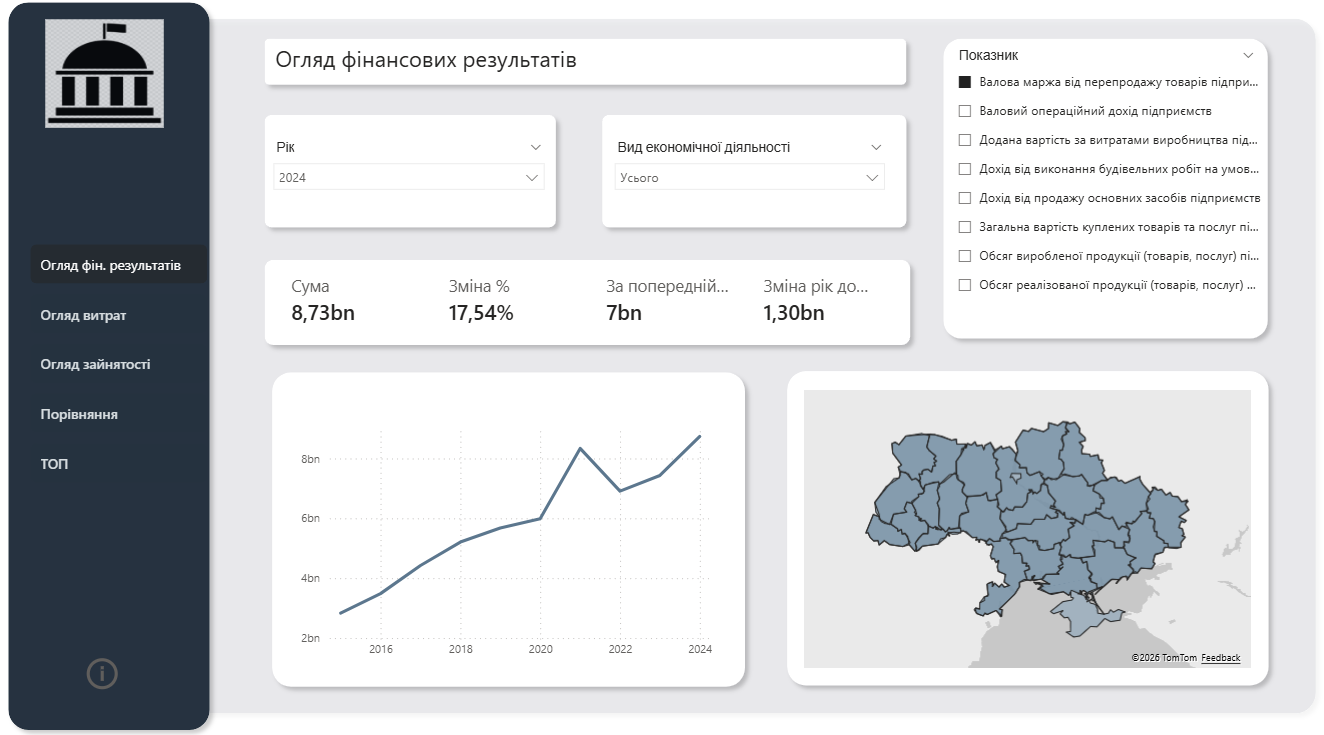

The dashboard page shown, as its layout file describes it:
{"tool":"powerbi","page":{"name":"Огляд фін. результатів","canvas":[1280,720],"ordinal":0},"visuals":[{"type":"group","id":"g1","title":"Основа","box":[0,0,1280,720.2],"z":0},{"type":"shape","box":[0,15.3,1280,688.7],"z":0,"group":"g1"},{"type":"shape","box":[247.7,34.8,637.2,62.6],"z":0,"group":"g8"},{"type":"shape","box":[903,34.8,331.1,307.5],"z":0,"group":"g5"},{"type":"shape","box":[247.7,108.5,299.1,126.6],"z":0,"group":"g7"},{"type":"shape","box":[573.2,108.5,311.7,126.6],"z":0,"group":"g6"},{"type":"shape","box":[247.7,247.7,641,100.2],"z":0,"group":"g4"},{"type":"shape","box":[751.3,356.2,482.8,321.4],"z":0,"group":"g3"},{"type":"shape","box":[254.6,357.6,474.4,321.4],"z":0,"group":"g2"},{"type":"shape","box":[0,0,212.3,720.2],"z":1000,"group":"g1"},{"type":"textbox","box":[261.8,43.4,304,45.8],"z":1000,"group":"g8"},{"type":"slicer","fields":{"Values":["Fact_FinancialResults.Показник"]},"box":[913.3,48.2,310.5,282.2],"z":1000,"group":"g5"},{"type":"slicer","fields":{"Values":["Dim_Activity.Вид економічної діяльності"]},"box":[583.5,136,280.9,80.7],"z":1000,"group":"g6"},{"type":"slicer","fields":{"Values":["Dim_Date.Рік"]},"box":[254.5,136.5,281.8,80.7],"z":1000,"group":"g7"},{"type":"cardVisual","fields":{"Data":["Fact_FinancialResults.FR Значення","Fact_FinancialResults.FR % Зміна YoY","Fact_FinancialResults.FR Значення PY","Fact_FinancialResults.FR Зміна YoY"]},"box":[257.8,246.9,635.8,96.5],"z":1000,"group":"g4"},{"type":"group","id":"g2","title":"Графік","box":[254.6,357.6,474.4,321.4],"z":1000},{"type":"azureMap","fields":{"Category":["Dim_Region.Область"]},"box":[772.2,378.6,441,277.8],"z":1000,"group":"g3"},{"type":"lineChart","fields":{"Category":["Dim_Date.Рік"],"Y":["Fact_FinancialResults.FR Значення"]},"box":[286.2,406.7,407.7,244.2],"z":1000,"group":"g2"},{"type":"pageNavigator","box":[30.7,242.9,171.9,234.4],"z":2000,"group":"g1"},{"type":"image","box":[44.9,25.3,114.6,105],"z":3000,"group":"g1"},{"type":"group","id":"g3","title":"Карта","box":[751.3,356.2,482.8,321.4],"z":3000},{"type":"actionButton","box":[80,637.1,45.7,40],"z":4000,"group":"g1"},{"type":"group","id":"g4","title":"KPI","box":[247.7,246.9,645.9,101],"z":5000},{"type":"group","id":"g5","title":"Показник","box":[903,34.8,331.1,307.5],"z":5250},{"type":"group","id":"g6","title":"Вид діяльності","box":[573.2,108.5,311.7,126.6],"z":5500},{"type":"group","id":"g7","title":"Рік","box":[247.7,108.5,299.1,126.6],"z":6000},{"type":"group","id":"g8","title":"Заголовок","box":[247.7,34.8,637.2,62.6],"z":7000}]}

Visuals, with their boxes on the page's 1280x720 design canvas (x1, y1, x2, y2). These are canvas units, not pixel positions in the 1324x735 screenshot, which may show the page scaled, cropped or inside an application window:
"Основа" group: BBox(0, 0, 1280, 720)
shape: BBox(0, 15, 1280, 704)
shape: BBox(248, 35, 885, 97)
shape: BBox(903, 35, 1234, 342)
shape: BBox(248, 108, 547, 235)
shape: BBox(573, 108, 885, 235)
shape: BBox(248, 248, 889, 348)
shape: BBox(751, 356, 1234, 678)
shape: BBox(255, 358, 729, 679)
shape: BBox(0, 0, 212, 720)
textbox: BBox(262, 43, 566, 89)
slicer - Fact_FinancialResults.Показник: BBox(913, 48, 1224, 330)
slicer - Dim_Activity.Вид економічної діяльності: BBox(584, 136, 864, 217)
slicer - Dim_Date.Рік: BBox(254, 136, 536, 217)
cardVisual - Fact_FinancialResults.FR Значення x Fact_FinancialResults.FR % Зміна YoY: BBox(258, 247, 894, 343)
"Графік" group: BBox(255, 358, 729, 679)
azureMap - Dim_Region.Область: BBox(772, 379, 1213, 656)
lineChart - Dim_Date.Рік x Fact_FinancialResults.FR Значення: BBox(286, 407, 694, 651)
pageNavigator: BBox(31, 243, 203, 477)
image: BBox(45, 25, 160, 130)
"Карта" group: BBox(751, 356, 1234, 678)
actionButton: BBox(80, 637, 126, 677)
"KPI" group: BBox(248, 247, 894, 348)
"Показник" group: BBox(903, 35, 1234, 342)
"Вид діяльності" group: BBox(573, 108, 885, 235)
"Рік" group: BBox(248, 108, 547, 235)
"Заголовок" group: BBox(248, 35, 885, 97)
